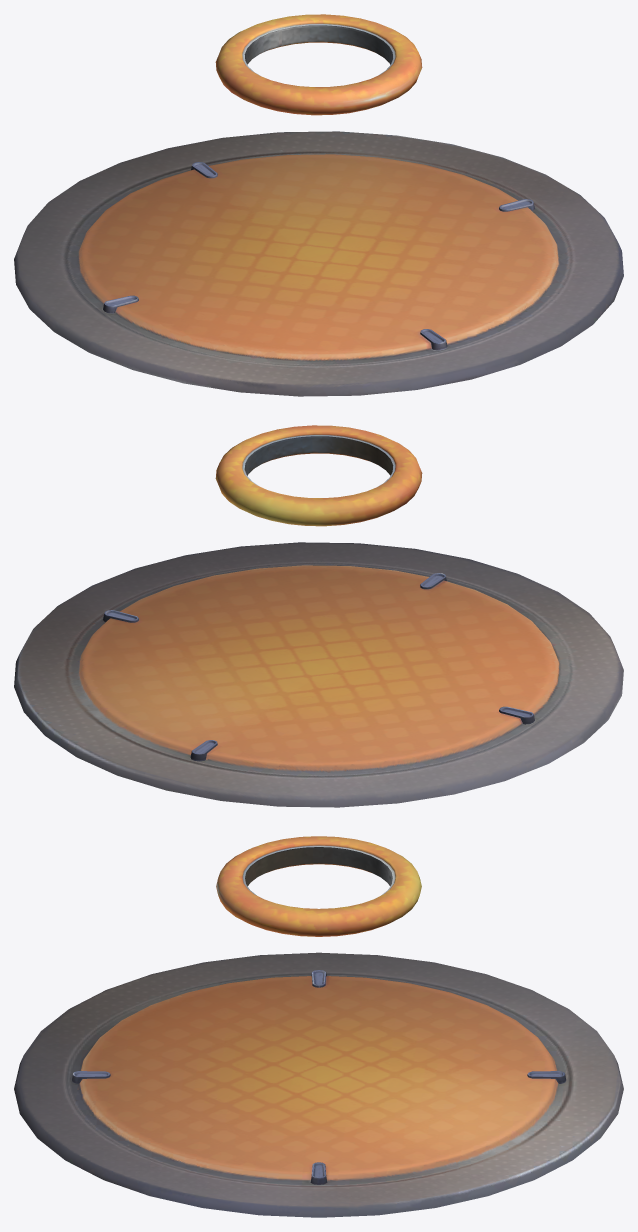
Rendered from pref_TPC_v2_NeutralScoreArea03_orange_idle_lv1.fbx.
The picture shows the model from 3 angles, top to bottom: view 1: azimuth 30°, elevation 25°; view 2: azimuth 150°, elevation 25°; view 3: azimuth 270°, elevation 25°; orthographic projection.
Visible parts, largest first — view 1: sm_prop_platform06a_lv1, sm_prop_platform06b_lv1; view 2: sm_prop_platform06a_lv1, sm_prop_platform06b_lv1; view 3: sm_prop_platform06a_lv1, sm_prop_platform06b_lv1.
Part boxes in pixels (x1,y1,x2,y2): sm_prop_platform06a_lv1: (14, 131, 623, 396); sm_prop_platform06b_lv1: (215, 14, 422, 115); sm_prop_platform06a_lv1: (14, 542, 623, 807); sm_prop_platform06b_lv1: (215, 425, 422, 526); sm_prop_platform06a_lv1: (14, 952, 623, 1217); sm_prop_platform06b_lv1: (216, 836, 421, 936).
Bounding box in the file's own units: 7.46 × 2.88 × 7.46.
